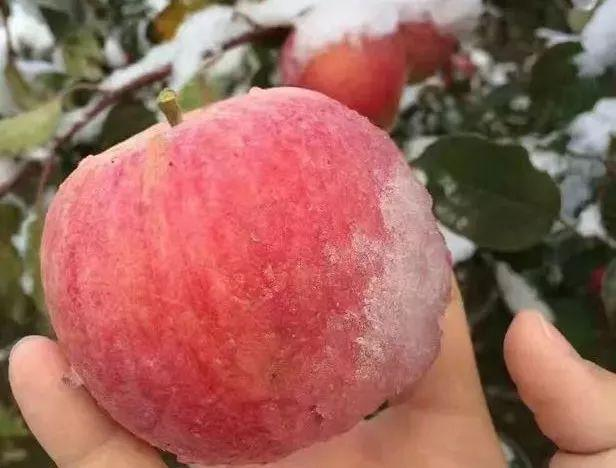apple: (40, 90, 459, 464)
